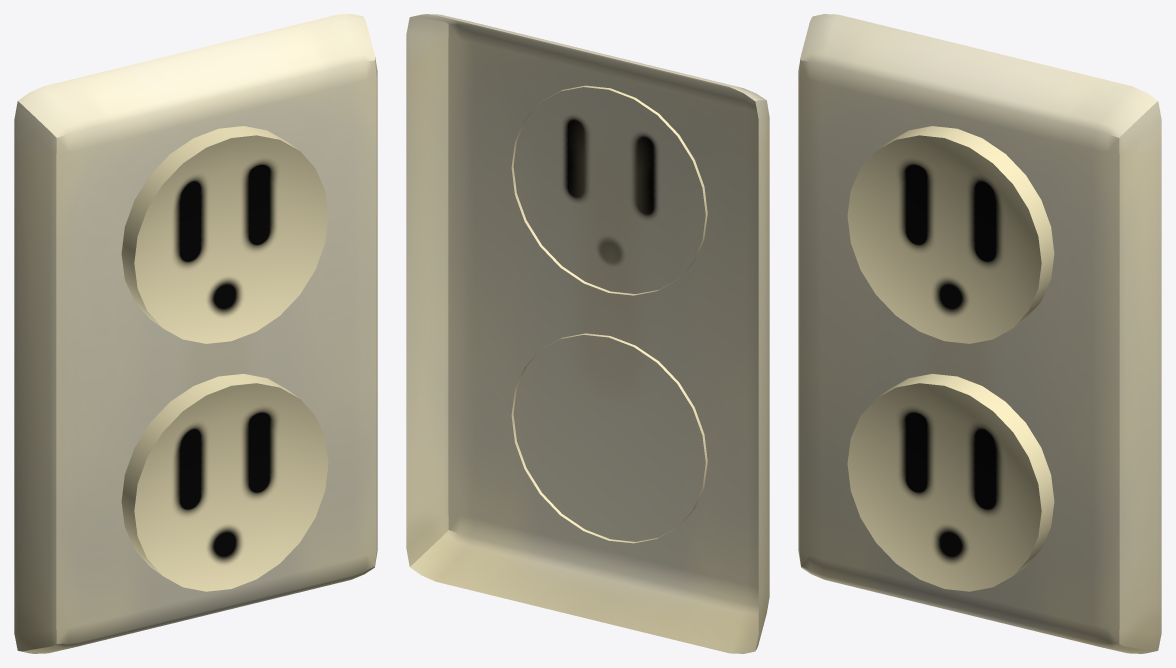
Rendered from JustTheOutlet.fbx.
3 renders of one model, left to right at view 1: azimuth 30°, elevation 25°; view 2: azimuth 150°, elevation 25°; view 3: azimuth 330°, elevation 25°, orthographic.
Visible parts, largest first — view 1: Outlet LOD0.001; view 2: Outlet LOD0.001; view 3: Outlet LOD0.001.
Part boxes in pixels (left/top/right/bottom): Outlet LOD0.001: left=14, top=14, right=377, bottom=653; Outlet LOD0.001: left=406, top=14, right=769, bottom=653; Outlet LOD0.001: left=798, top=14, right=1161, bottom=653.
Size of what is drawn, in the model's own units: 197 by 303 by 39.55.
